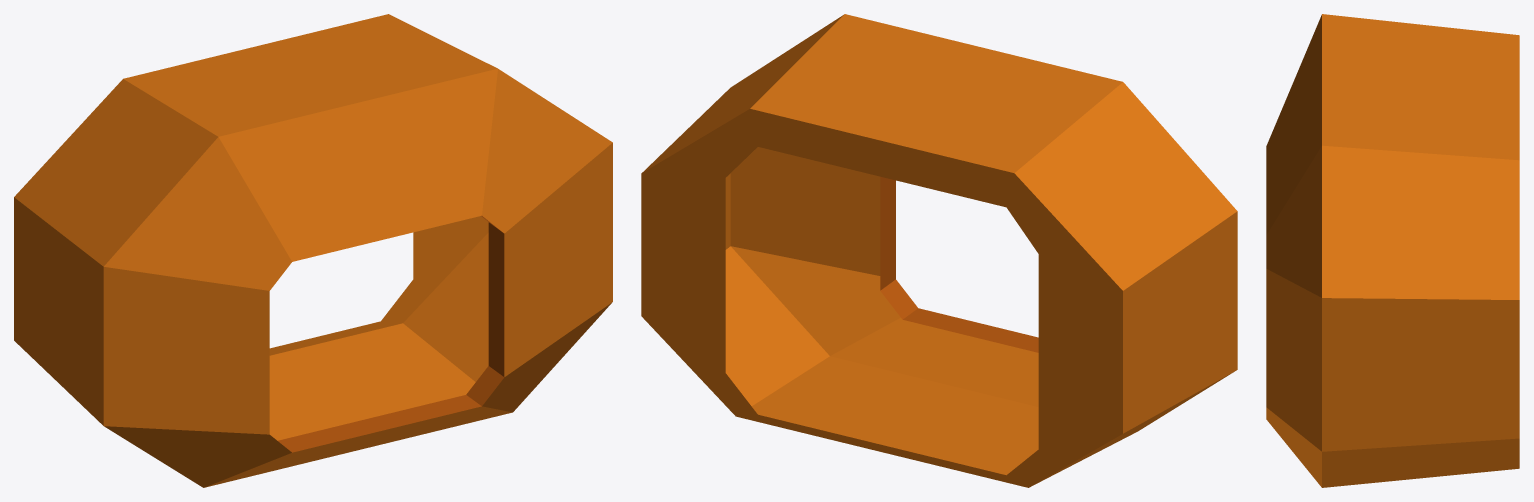
The model's file is custom-juba-mico.glb.
3 renders of one model, left to right at view 1: azimuth 30°, elevation 25°; view 2: azimuth 150°, elevation 25°; view 3: azimuth 270°, elevation 25°, orthographic. The views are drawn at different scales.
Parts seen in each view (by area): view 1: juba-mico; view 2: juba-mico; view 3: juba-mico.
Boxes of the visible parts, <box> form: juba-mico: <box>14,14,612,487</box>; juba-mico: <box>641,14,1237,487</box>; juba-mico: <box>1266,14,1519,487</box>.
Size of the model in its own units: 2.04 by 1.33 by 0.91.
